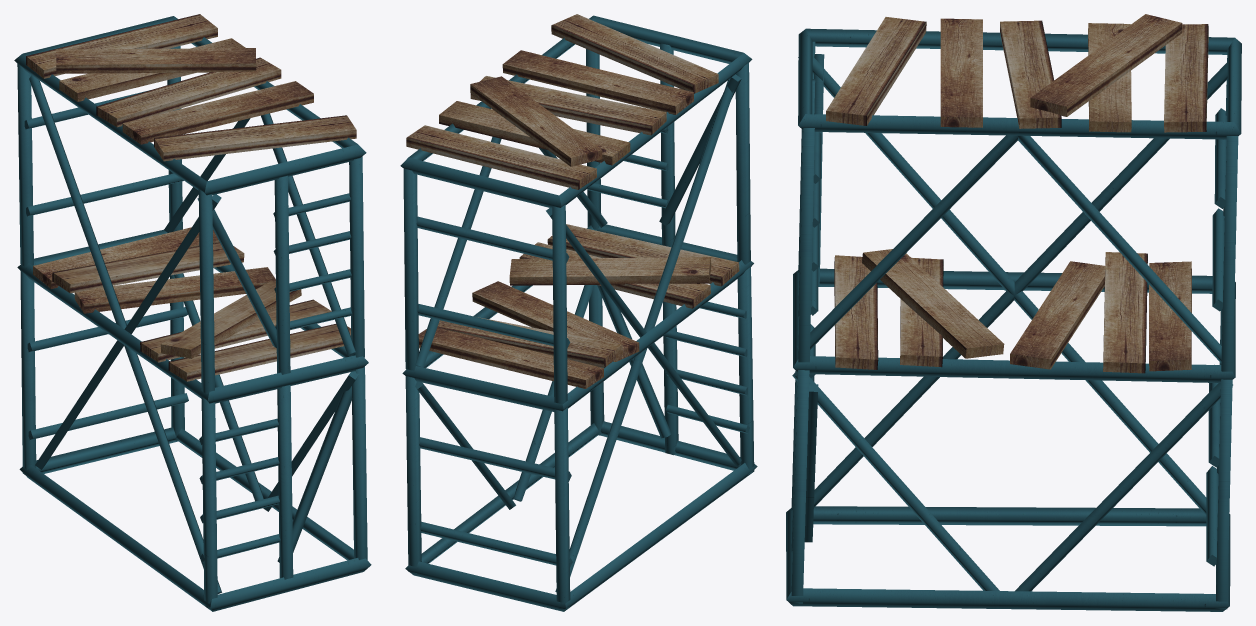
File: Shelves_big02.FBX
3 views of the same model, side by side, from view 1: azimuth 30°, elevation 25°; view 2: azimuth 150°, elevation 25°; view 3: azimuth 270°, elevation 25° (orthographic). The views are drawn at different scales.
Visible parts, largest first — view 1: Shelves_big02; view 2: Shelves_big02; view 3: Shelves_big02.
Part boxes in pixels (<box>): Shelves_big02: <box>14,14,371,611</box>; Shelves_big02: <box>400,14,757,611</box>; Shelves_big02: <box>786,14,1241,611</box>.
Size of the model in its own units: 56 by 134 by 108.
